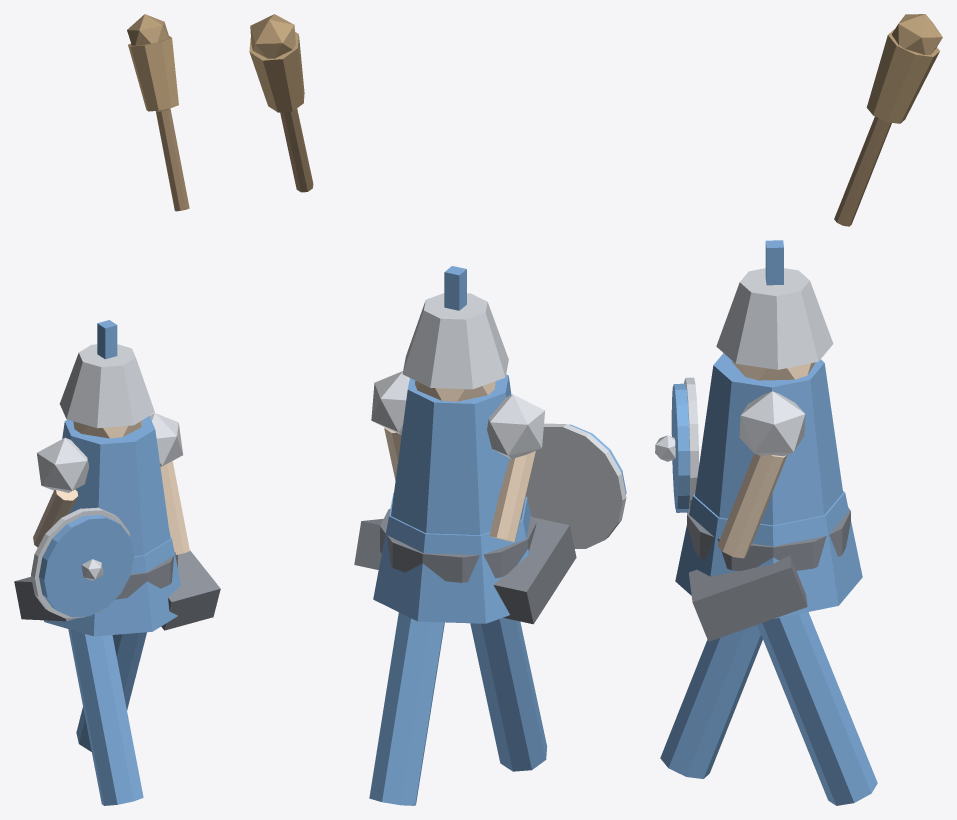
Rendered from warrior.glb.
The picture shows the model from 3 angles, left to right: view 1: azimuth 30°, elevation 25°; view 2: azimuth 150°, elevation 25°; view 3: azimuth 270°, elevation 25°; orthographic projection. The views are drawn at different scales.
Visible parts, largest first — view 1: Cone.001, Cylinder.001, Cylinder.004, Cone.002, Cone, Cone.003, Cube, Icosphere.001, Cylinder, Cylinder.006, Cylinder.005, WeaponArm (+7 smaller); view 2: Cone.001, Cone, Cylinder, Cylinder.005, Cone.002, Cylinder.001, Cube.001, Cylinder.002, Icosphere.001, Cone.003, Cylinder.003, Icosphere (+5 smaller); view 3: Cone.001, Cylinder, Cone.002, Cylinder.001, Cone, Cube, Cone.003, WeaponArm, Icosphere, Cylinder.002, Cylinder.006, Cylinder.004 (+4 smaller).
Part boxes in pixels (<box>): Cone.001: <box>62,416,170,555</box>; Cylinder.001: <box>68,629,143,805</box>; Cylinder.004: <box>39,515,133,617</box>; Cone.002: <box>59,344,154,428</box>; Cone: <box>44,535,180,636</box>; Cone.003: <box>128,36,178,111</box>; Cube: <box>161,550,220,630</box>; Icosphere.001: <box>37,437,88,492</box>; Cylinder: <box>76,632,146,751</box>; Cylinder.006: <box>155,108,189,211</box>; Cylinder.005: <box>31,507,129,618</box>; WeaponArm: <box>160,461,189,554</box>; Cone.001: <box>391,374,525,535</box>; Cone: <box>373,492,530,623</box>; Cylinder: <box>369,612,444,805</box>; Cylinder.005: <box>526,423,626,548</box>; Cone.002: <box>402,293,508,389</box>; Cylinder.001: <box>470,618,547,771</box>; Cube.001: <box>493,517,576,624</box>; Cylinder.002: <box>380,509,536,582</box>; Icosphere.001: <box>487,394,545,459</box>; Cone.003: <box>249,32,304,112</box>; Cylinder.003: <box>489,451,535,542</box>; Icosphere: <box>371,371,409,434</box>; Cone.001: <box>695,353,842,525</box>; Cylinder: <box>757,612,877,805</box>; Cone.002: <box>716,268,833,369</box>; Cylinder.001: <box>660,625,762,778</box>; Cone: <box>675,491,862,618</box>; Cube: <box>689,555,807,641</box>; Cone.003: <box>866,29,939,123</box>; WeaponArm: <box>717,453,787,558</box>; Icosphere: <box>739,391,805,456</box>; Cylinder.002: <box>687,508,850,570</box>; Cylinder.006: <box>834,116,891,226</box>; Cylinder.004: <box>671,383,689,512</box>.
Size of the model in its own units: 1.1 by 3.13 by 0.9812.
